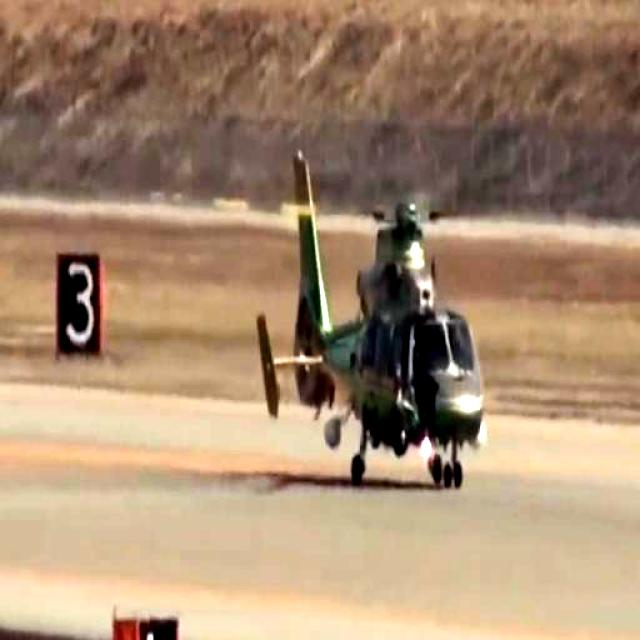drone: (240, 125, 526, 506)
